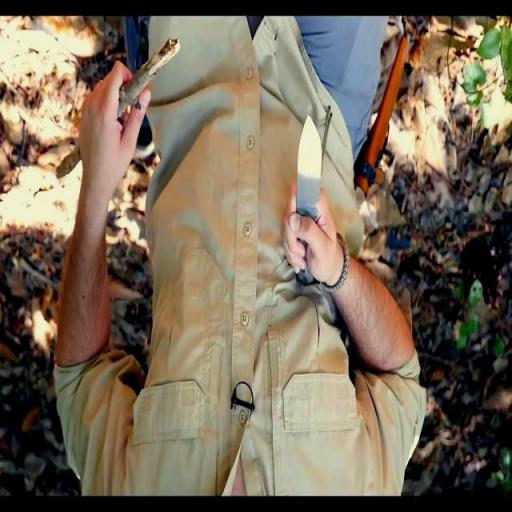knife: (277, 104, 334, 277)
